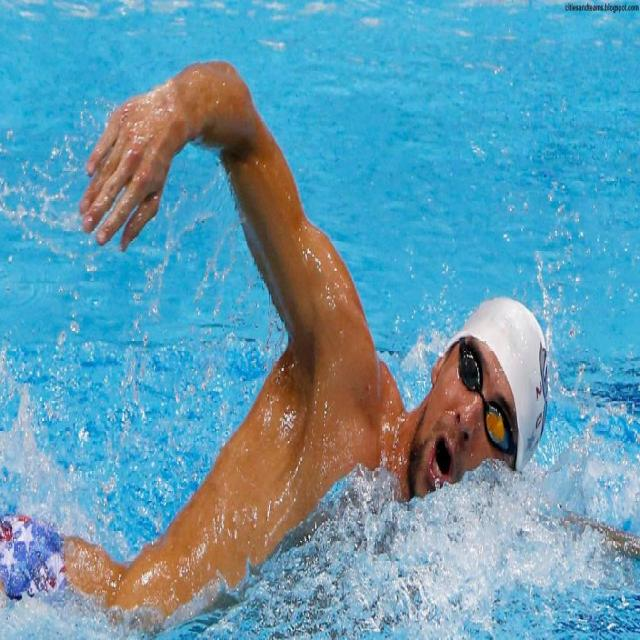nomask: (418, 344, 507, 504)
